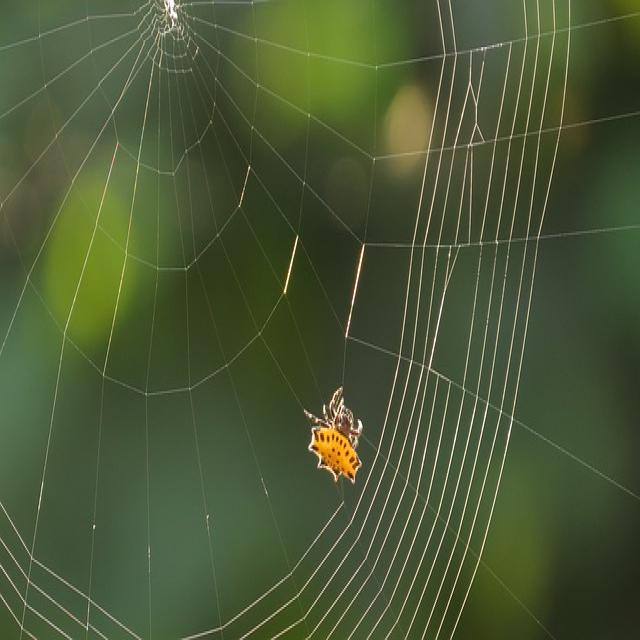spyder: (305, 387, 362, 483)
